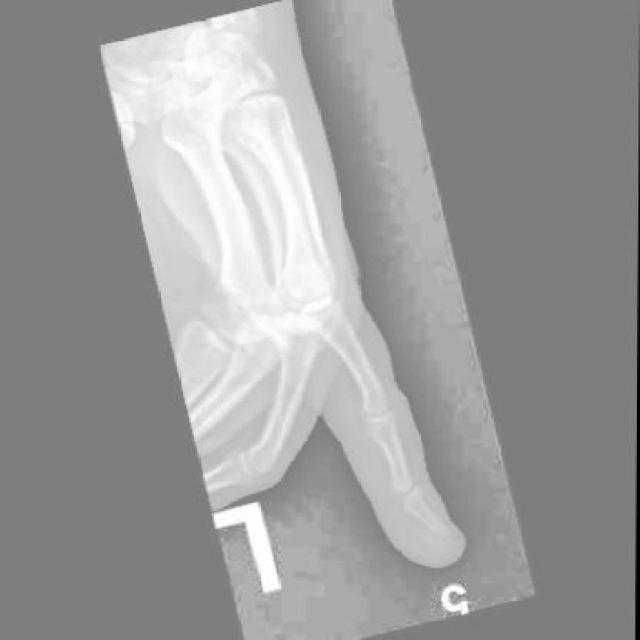Fracture: (414, 513, 459, 562)
